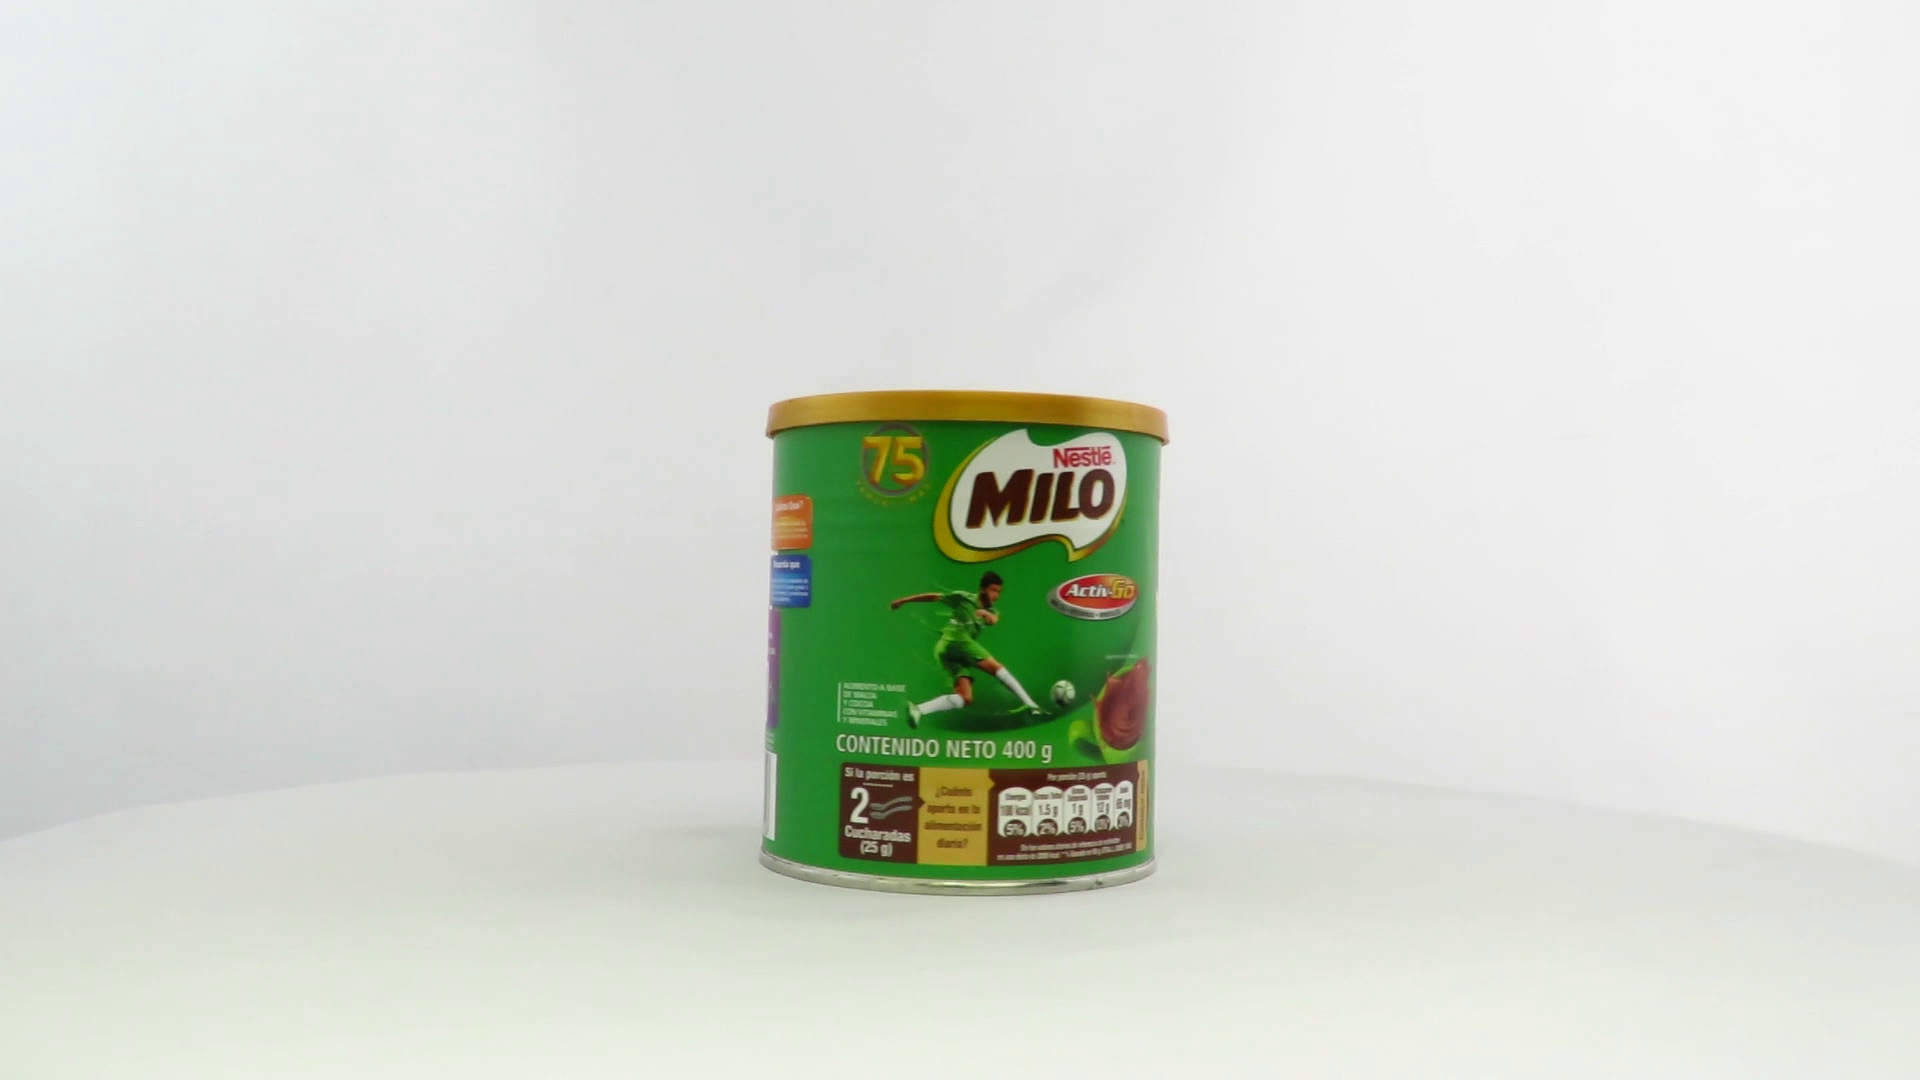COL0170203LAT40000: (754, 385, 1176, 903)
